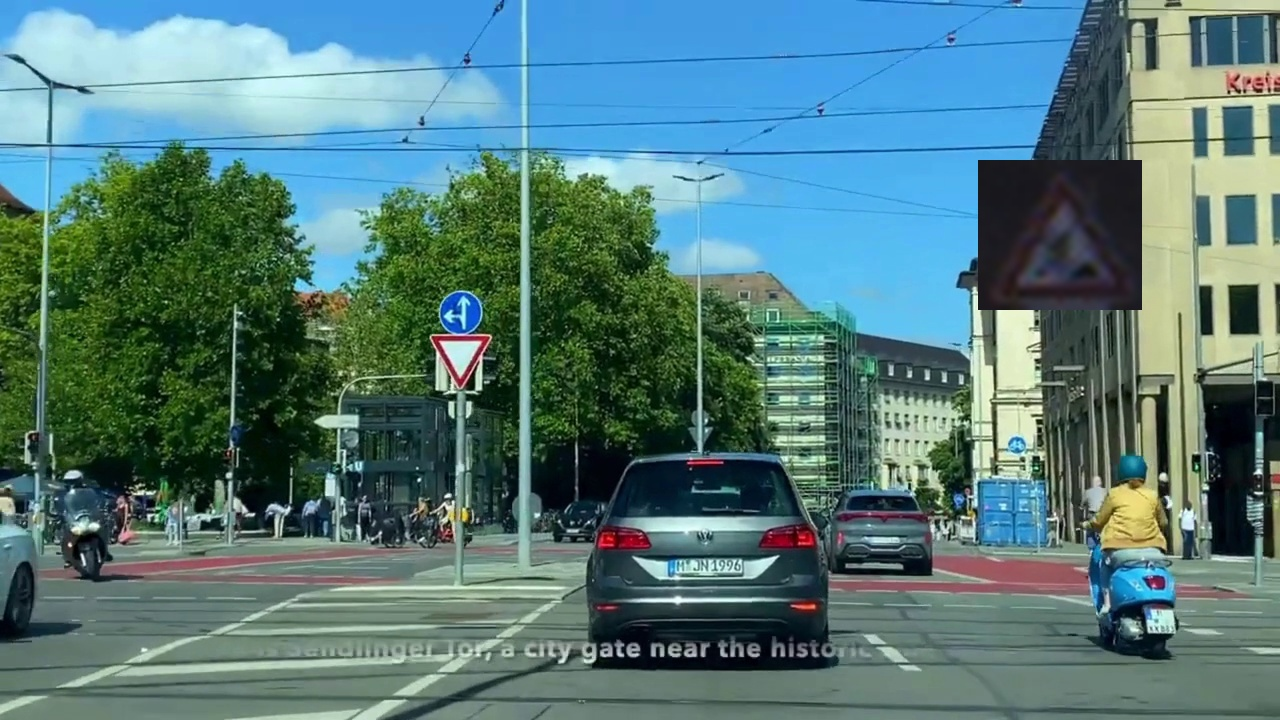Road work: (978, 160, 1142, 310)
